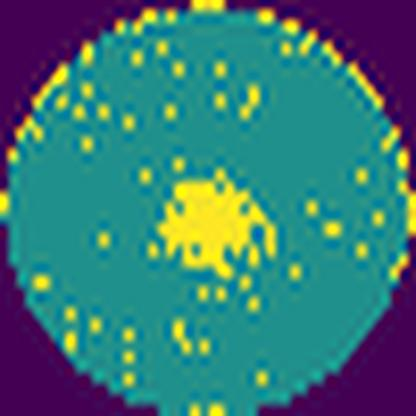Center: (157, 178, 277, 281)
